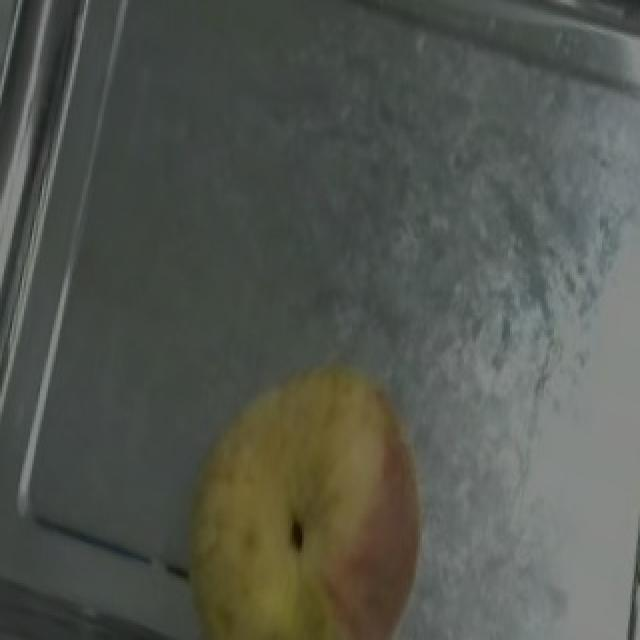Fruit: (148, 327, 462, 640)
